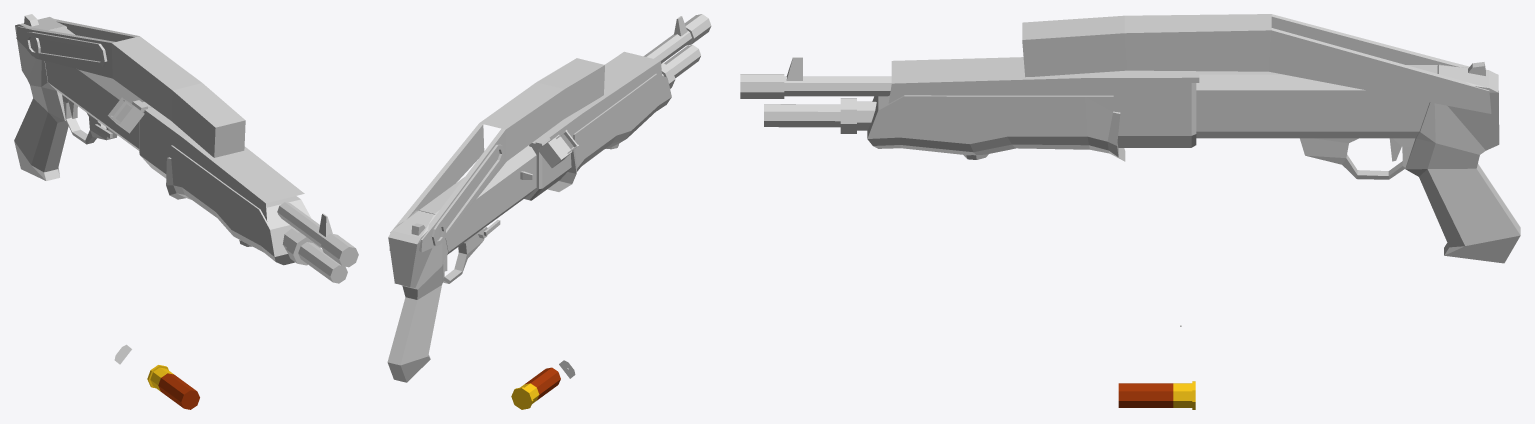
The model's file is Spas_Gun.glb.
3 renders of one model, left to right at view 1: azimuth 30°, elevation 25°; view 2: azimuth 150°, elevation 25°; view 3: azimuth 270°, elevation 25°, orthographic. The views are drawn at different scales.
Visible parts, largest first — view 1: SpasBody.001, ShotgunShell; view 2: SpasBody.001, ShotgunShell; view 3: SpasBody.001, ShotgunShell.
Part boxes in pixels (x1,y1,x2,y2): SpasBody.001: [14, 14, 358, 283]; ShotgunShell: [147, 365, 199, 409]; SpasBody.001: [387, 14, 711, 382]; ShotgunShell: [511, 367, 560, 409]; SpasBody.001: [740, 14, 1520, 263]; ShotgunShell: [1118, 381, 1195, 409].
Bounding box in the file's own units: 0.1046 × 0.4196 × 0.7672.
4 materials, 1 textured.
